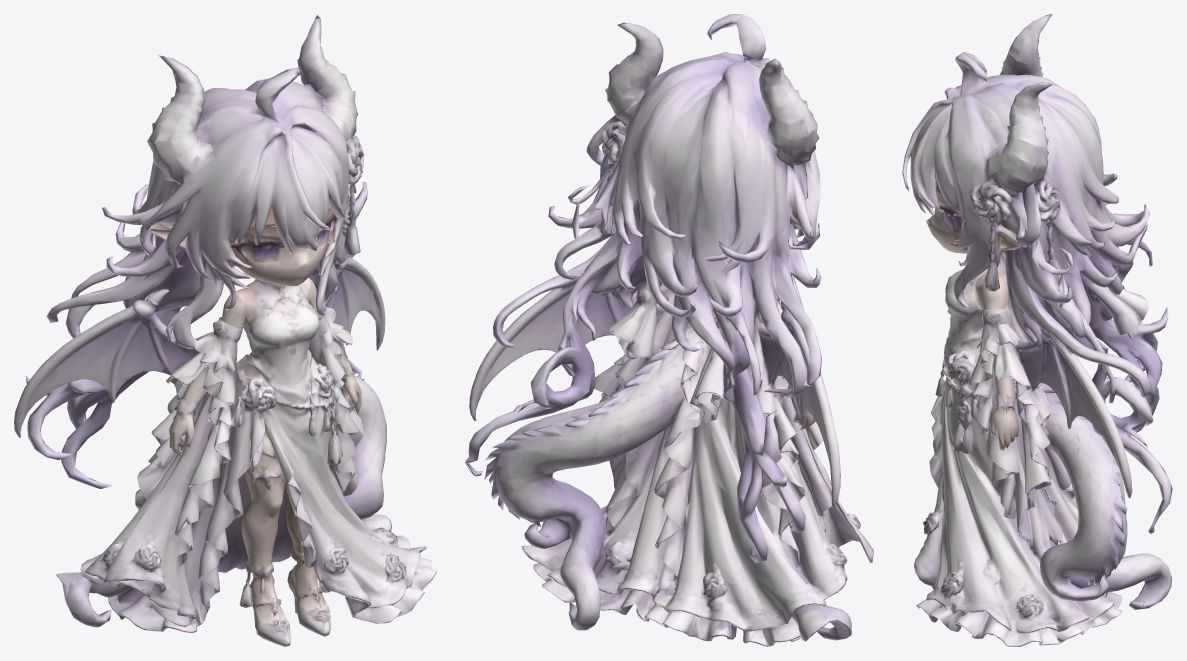
The model's file is gpt.glb.
3 views of the same model, side by side, from view 1: azimuth 30°, elevation 25°; view 2: azimuth 150°, elevation 25°; view 3: azimuth 270°, elevation 25° (orthographic). The views are drawn at different scales.
Parts seen in each view (by area): view 1: part_2; view 2: part_2; view 3: part_2.
Part boxes in pixels (x1,y1,x2,y2): part_2: (14, 14, 436, 646); part_2: (465, 14, 873, 646); part_2: (902, 14, 1172, 646).
Size of the model in its own units: 0.6709 by 0.9801 by 0.4522.
Materials: 1 (1 with a texture image).
